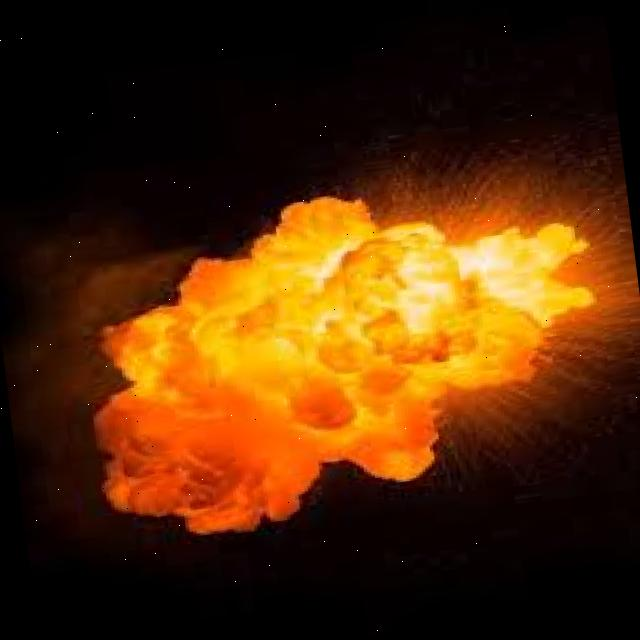explosion: (86, 132, 640, 577)
